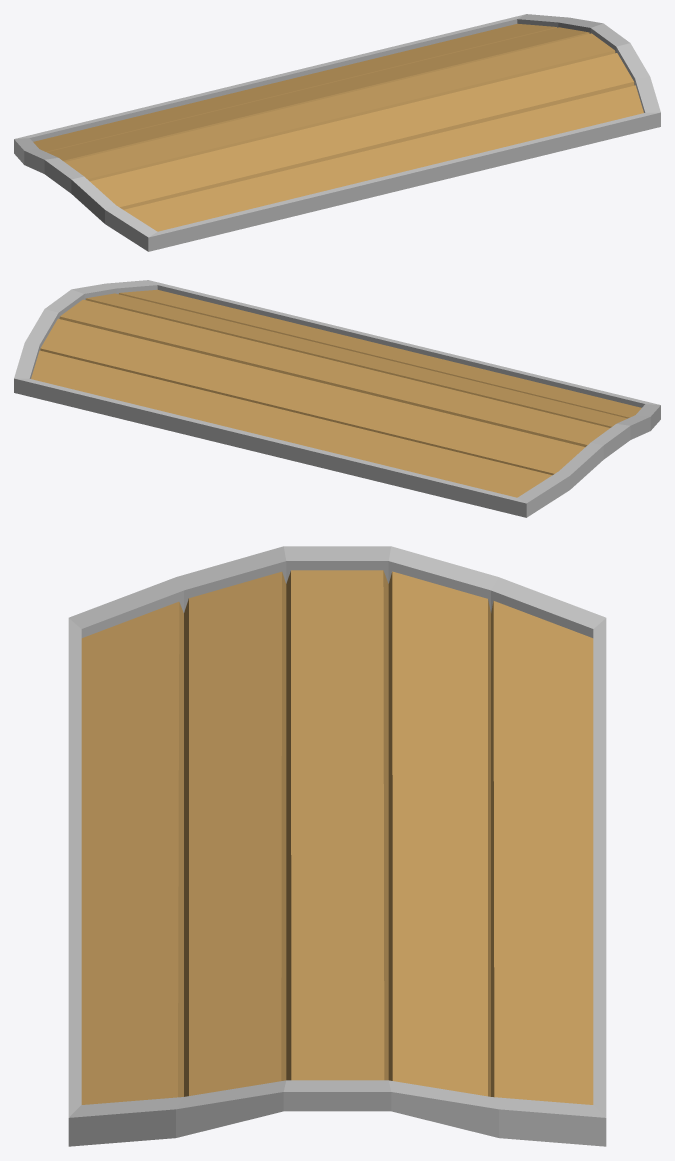
File: Shield_2_a_wood.fbx
The picture shows the model from 3 angles, top to bottom: view 1: azimuth 30°, elevation 25°; view 2: azimuth 150°, elevation 25°; view 3: azimuth 270°, elevation 25°; orthographic projection. The views are drawn at different scales.
Visible parts, largest first — view 1: Plane.028, Plane.029; view 2: Plane.028, Plane.029; view 3: Plane.028, Plane.029.
Part boxes in pixels (x1=…): Plane.028: x1=33, y1=23, x2=643, y2=231; Plane.029: x1=14, y1=14, x2=660, y2=251; Plane.028: x1=31, y1=289, x2=641, y2=497; Plane.029: x1=14, y1=280, x2=660, y2=517; Plane.028: x1=81, y1=570, x2=593, y2=1104; Plane.029: x1=68, y1=546, x2=606, y2=1146.
Size of the model in its own units: 126 by 14.33 by 52.54.
